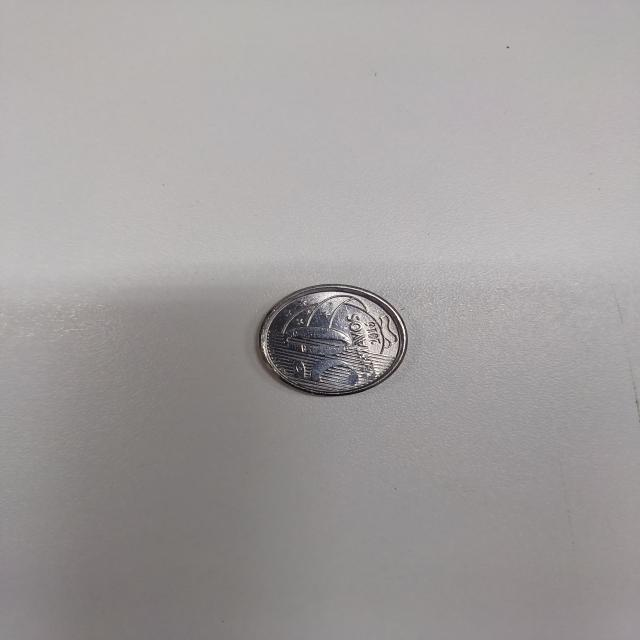50 cents: (255, 279, 412, 404)
